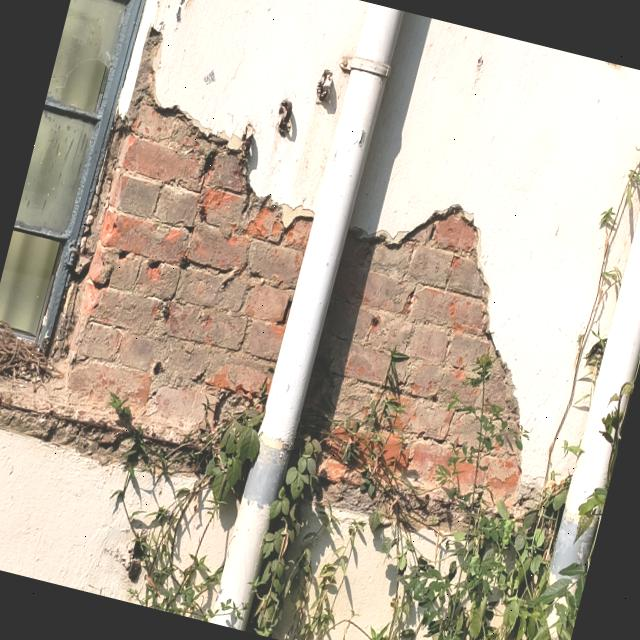spalling: (0, 31, 313, 469), (298, 205, 519, 503)
